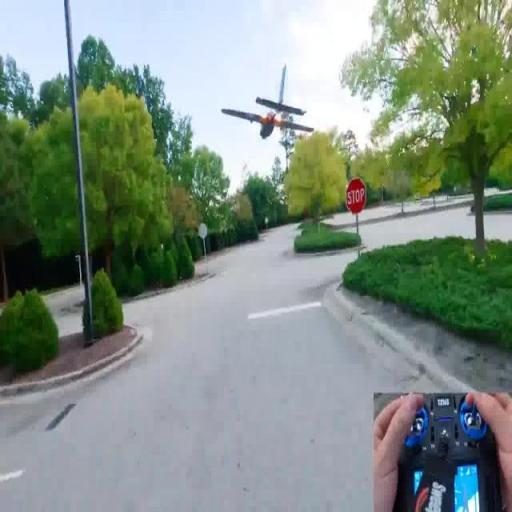uav: (220, 60, 316, 142)
